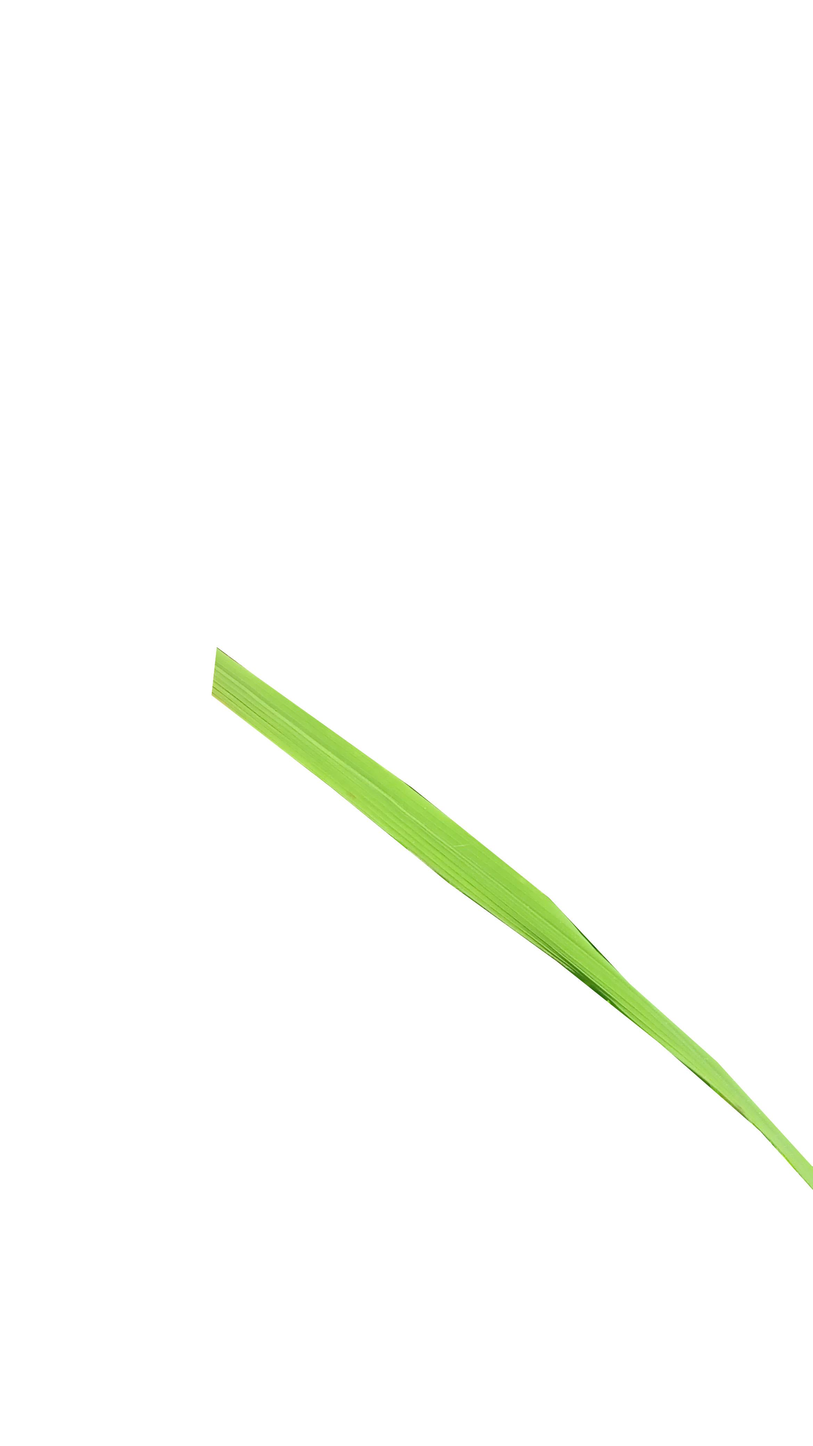Tungro: (210, 648, 813, 1199)
